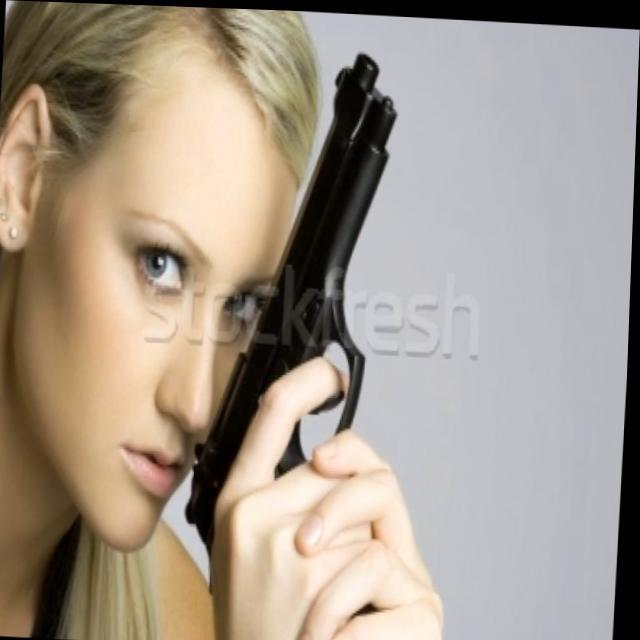weapon: (184, 39, 400, 568)
